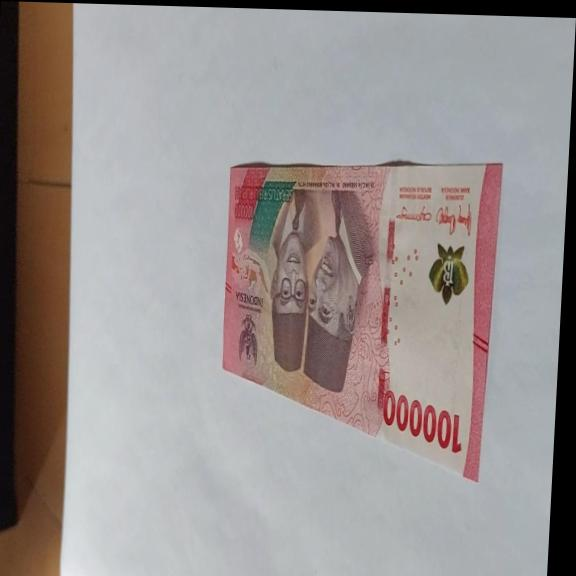Kertas: (213, 155, 502, 483), (379, 388, 465, 456)
